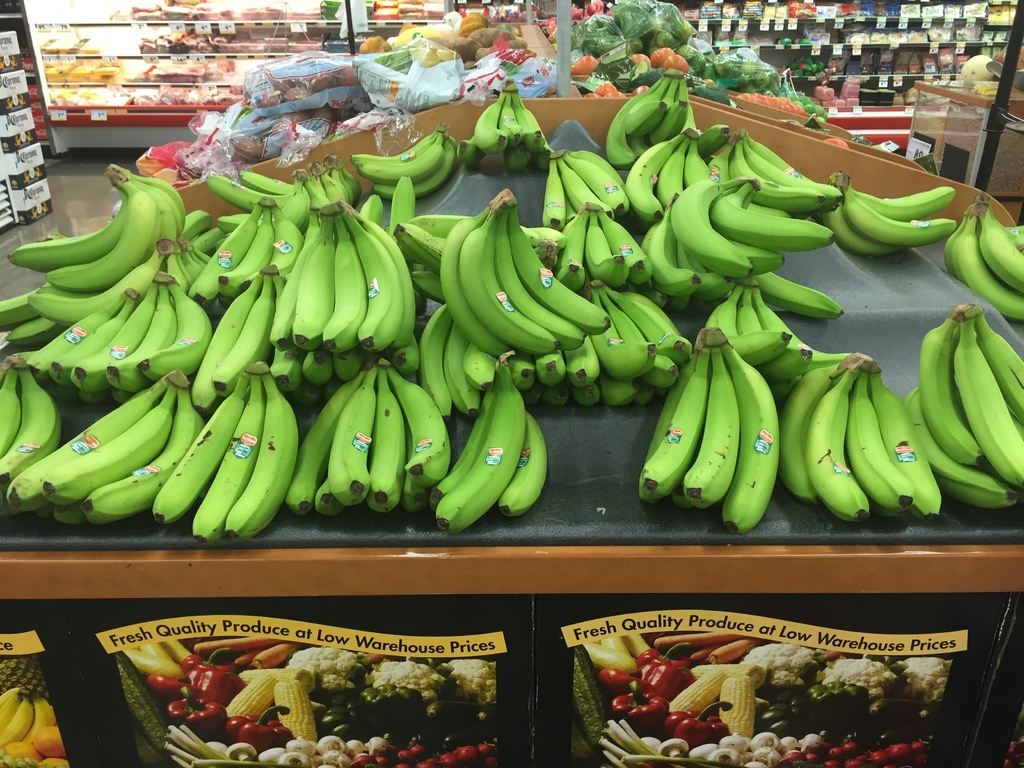Banana: (0, 70, 1023, 537)
